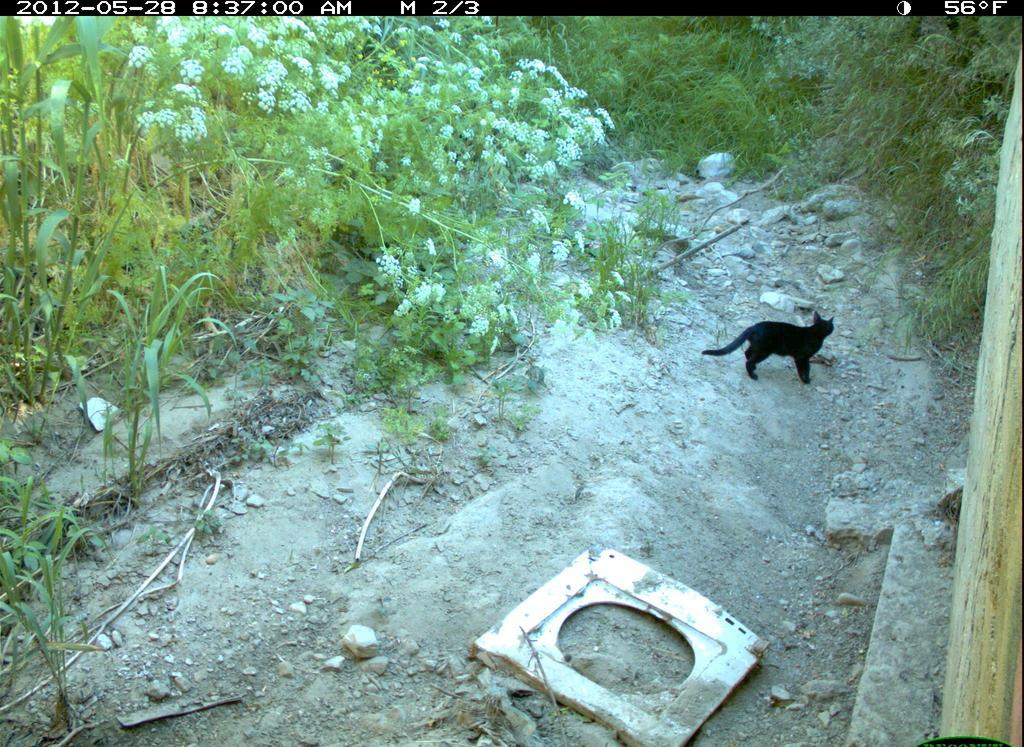cat: (703, 312, 844, 395)
